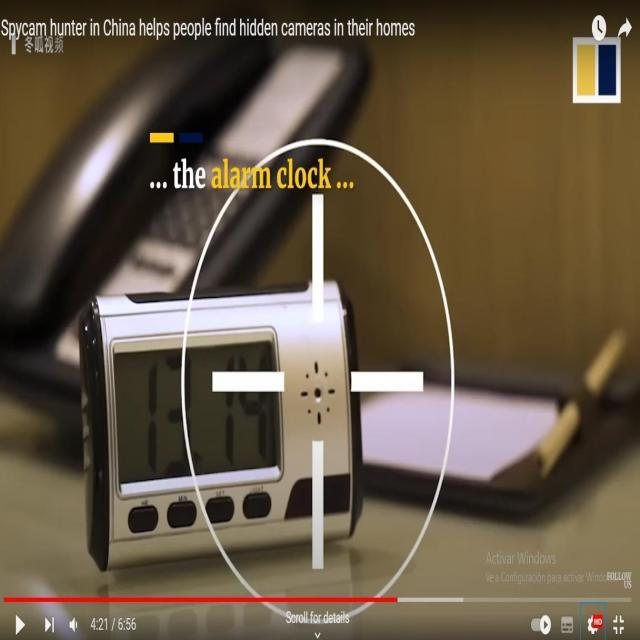hidden camera: (308, 370, 327, 409)
